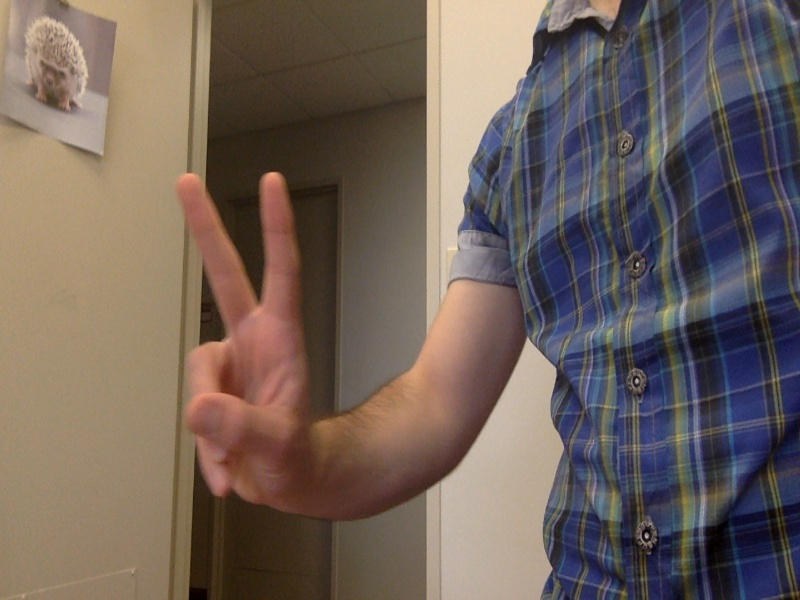2-hand: (169, 174, 331, 511)
